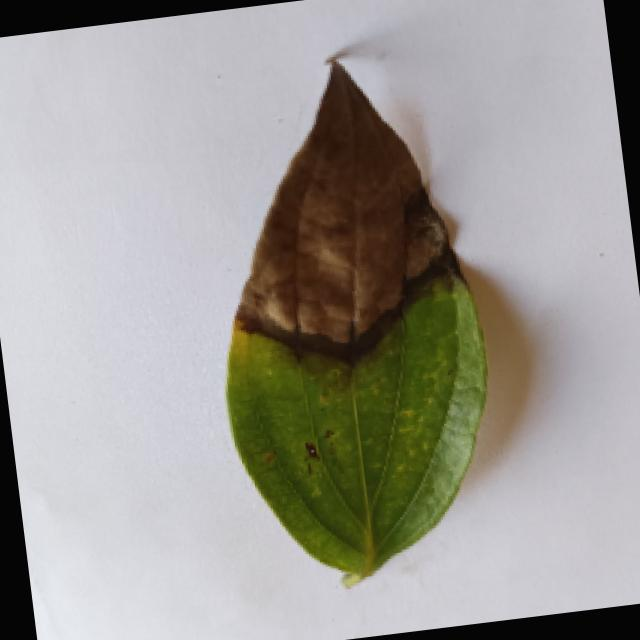footrot: (184, 42, 517, 601)
